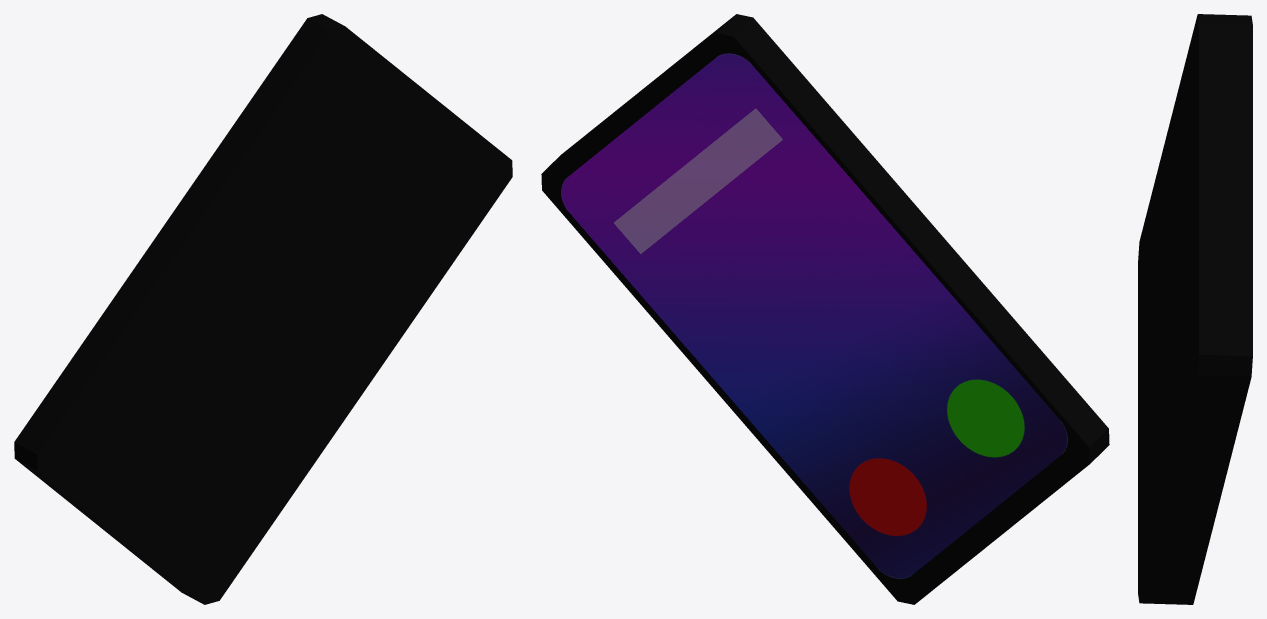
The model's file is Phone.FBX.
The picture shows the model from 3 angles, left to right: view 1: azimuth 30°, elevation 25°; view 2: azimuth 150°, elevation 25°; view 3: azimuth 270°, elevation 25°; orthographic projection. The views are drawn at different scales.
Visible parts, largest first — view 1: phone; view 2: phone; view 3: phone.
Part boxes in pixels (bbox=[...]): phone: bbox=[14, 14, 512, 604]; phone: bbox=[541, 14, 1109, 604]; phone: bbox=[1138, 14, 1252, 604].
Size of the model in its own units: 17.28 by 17.28 by 2.66.
